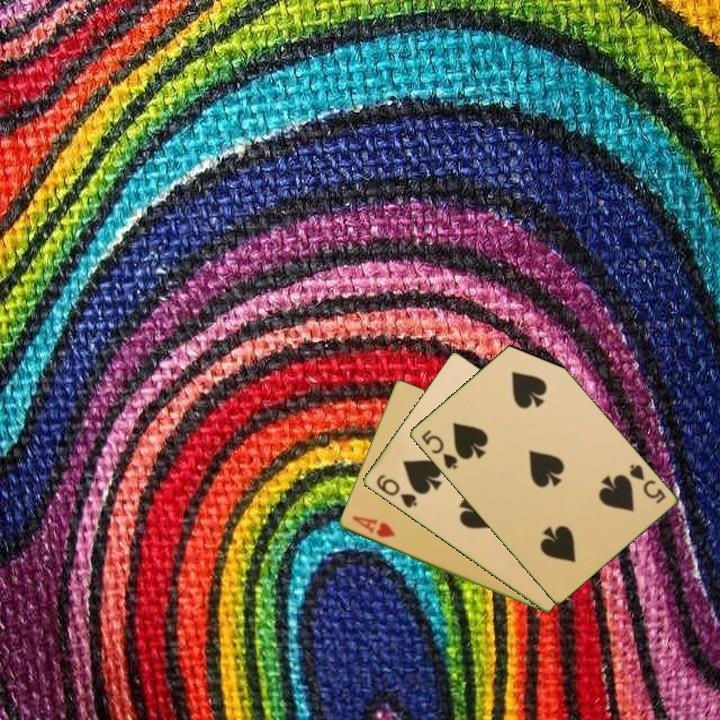5s: (625, 460, 668, 507), (417, 426, 460, 472)
6s: (372, 471, 420, 511)
Ah: (348, 512, 398, 541)
